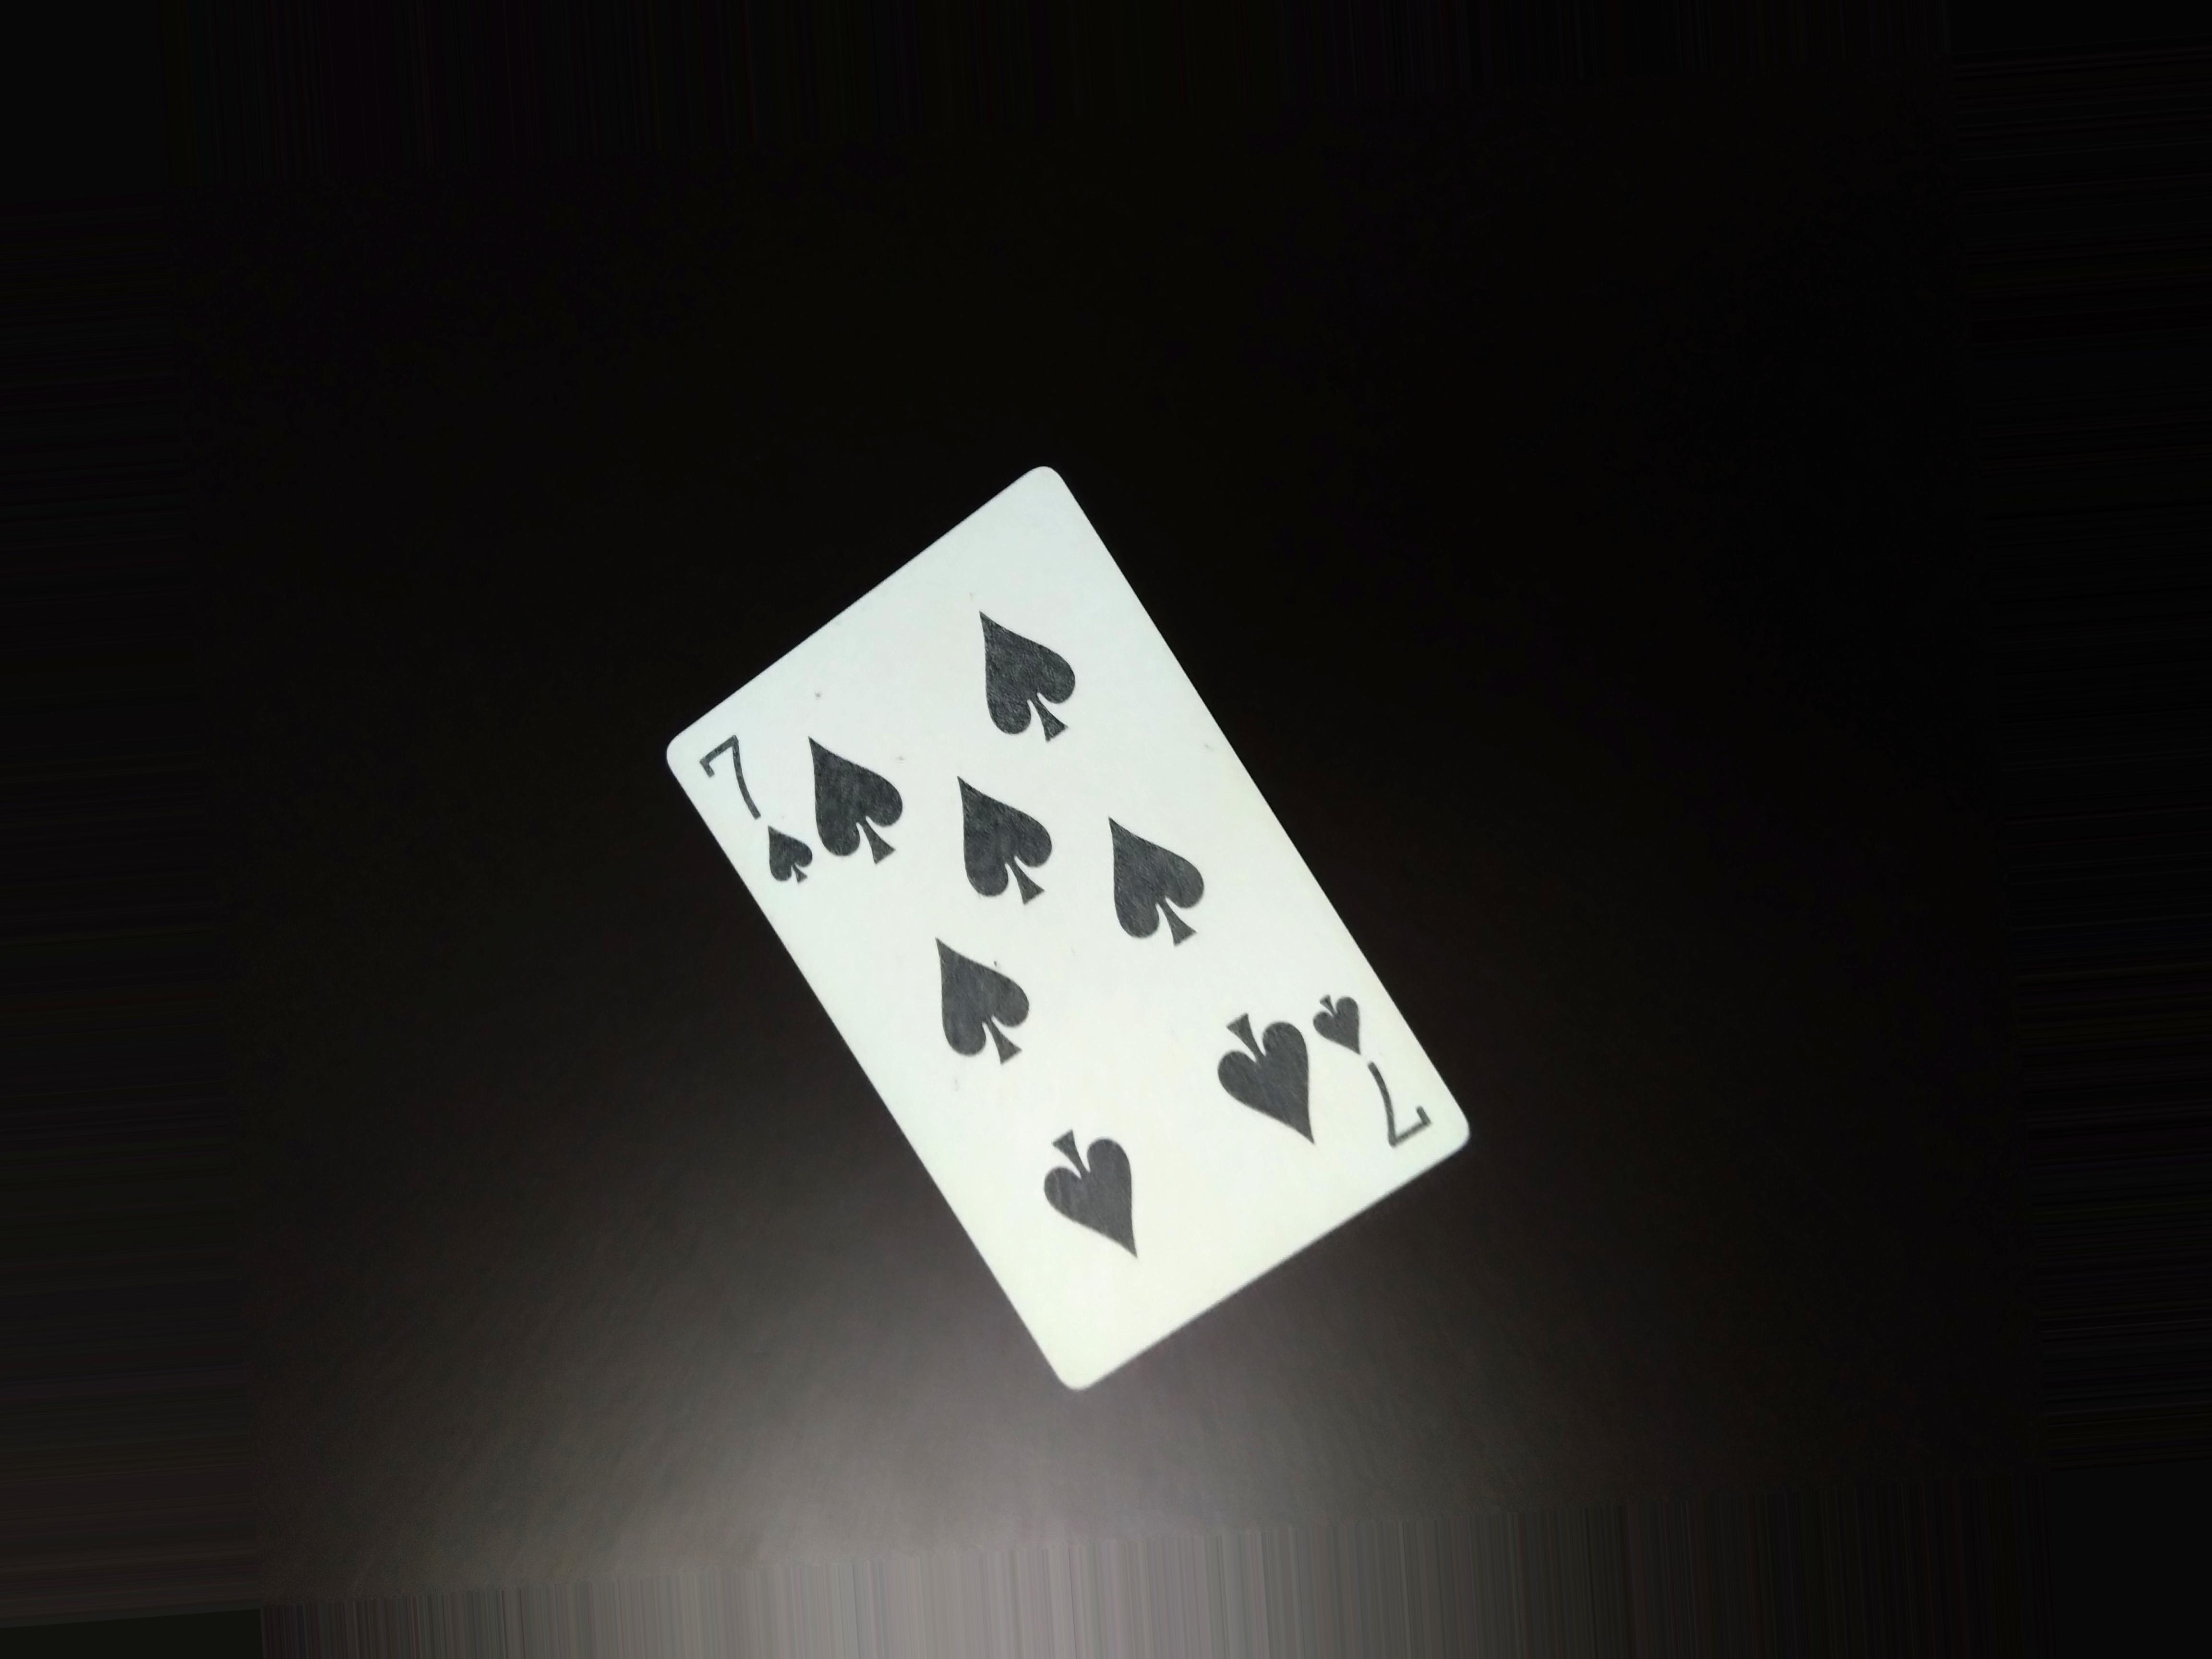7S: (1312, 979, 1454, 1171)
